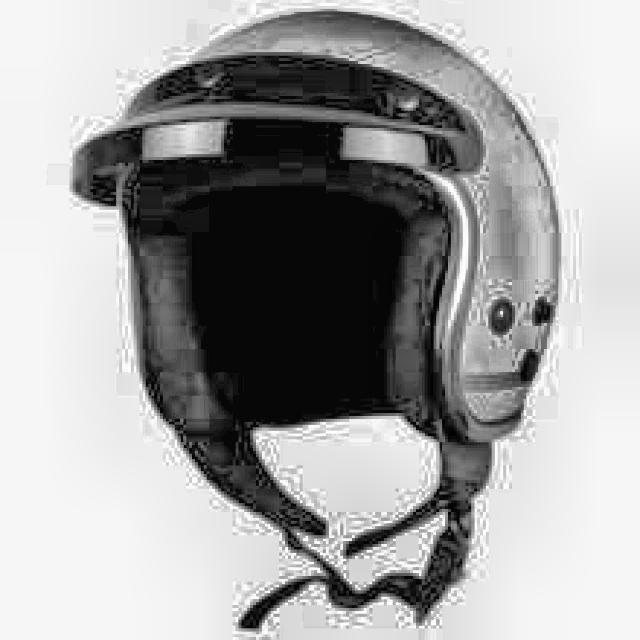Helmet: (60, 10, 577, 640)
